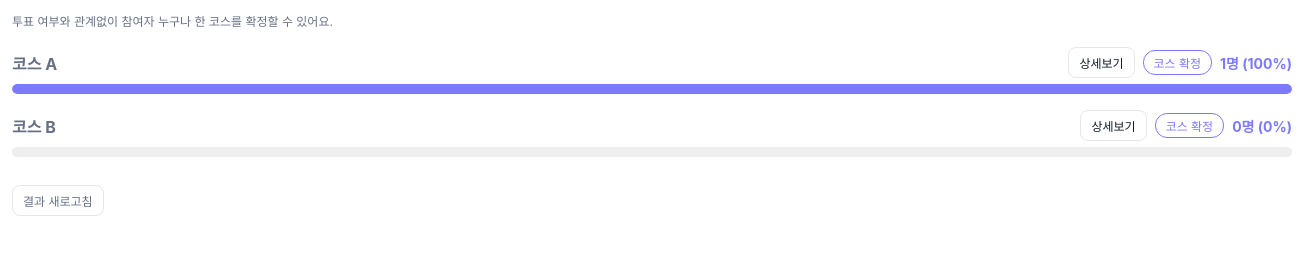
Scenario: 실패 시 완료 표시 안 함, 빠른 중복 클릭은 한 요청
What coordinates should you click on to do the following:
click the button "코스 확정" next to "1명 (100%)"
I would click on:
 (1177, 63)
Its box is [1143, 50, 1212, 75].
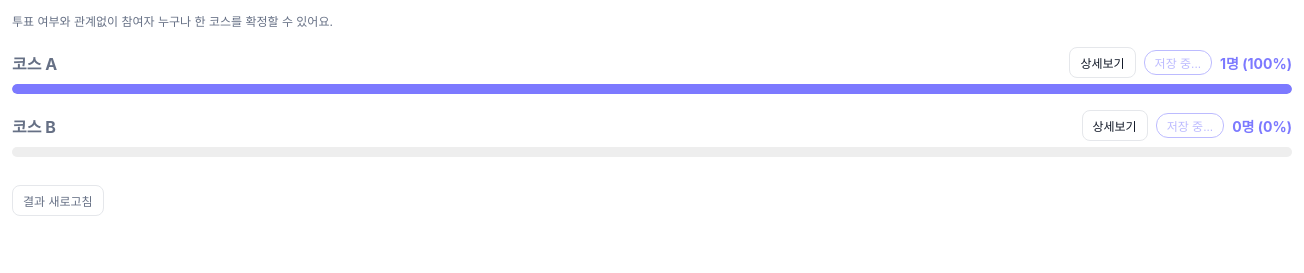
What coordinates should you click on to do the following:
click the button named "코스 확정"
I would click on:
 (1178, 63)
Its box is [1144, 50, 1212, 75].
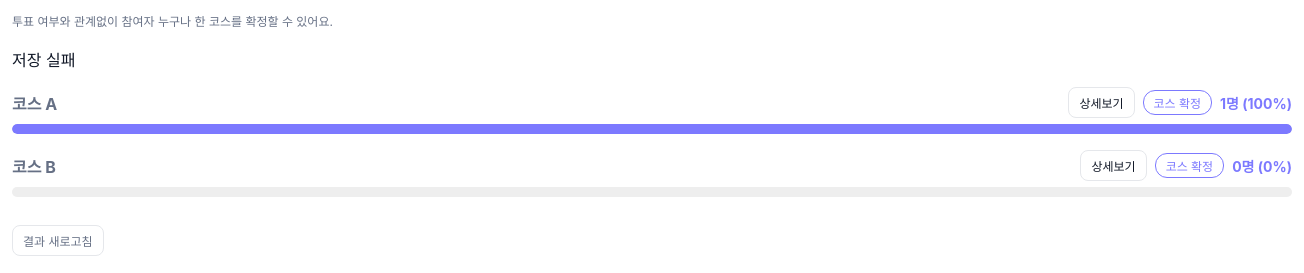
Result: the message reads "저장 실패" at [12, 50, 75, 70]
